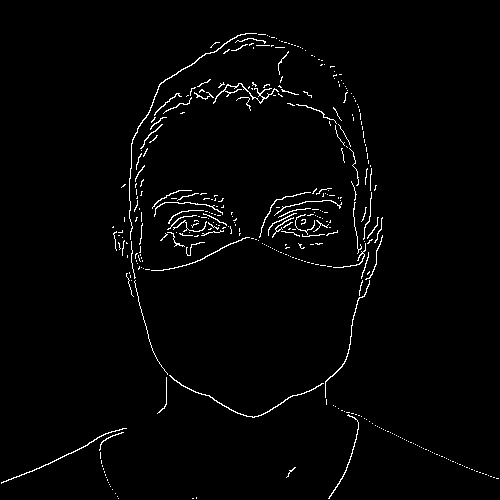mask: (140, 249, 359, 394)
